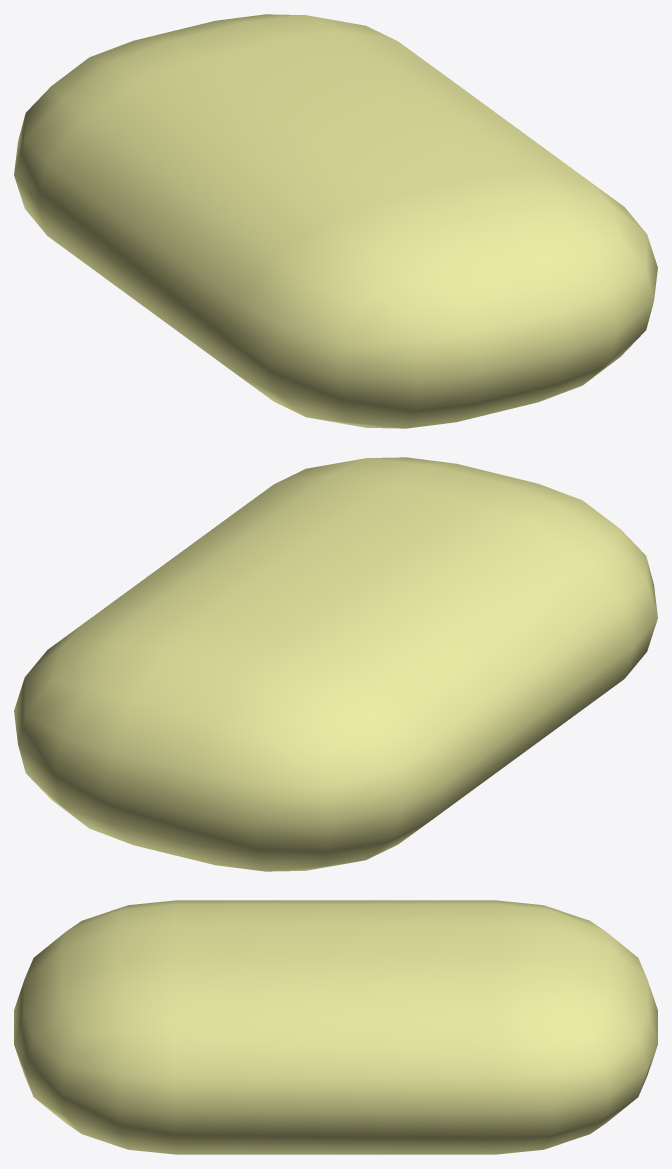
File: Soap.glb
The picture shows the model from 3 angles, top to bottom: view 1: azimuth 30°, elevation 25°; view 2: azimuth 150°, elevation 25°; view 3: azimuth 270°, elevation 25°; orthographic projection. The views are drawn at different scales.
Visible parts, largest first — view 1: Soap; view 2: Soap; view 3: Soap.
Boxes of the visible parts, <box> form: Soap: <box>14,14,657,428</box>; Soap: <box>14,457,657,871</box>; Soap: <box>14,900,657,1154</box>.
Size of the model in its own units: 0.1 by 0.048 by 0.16.
